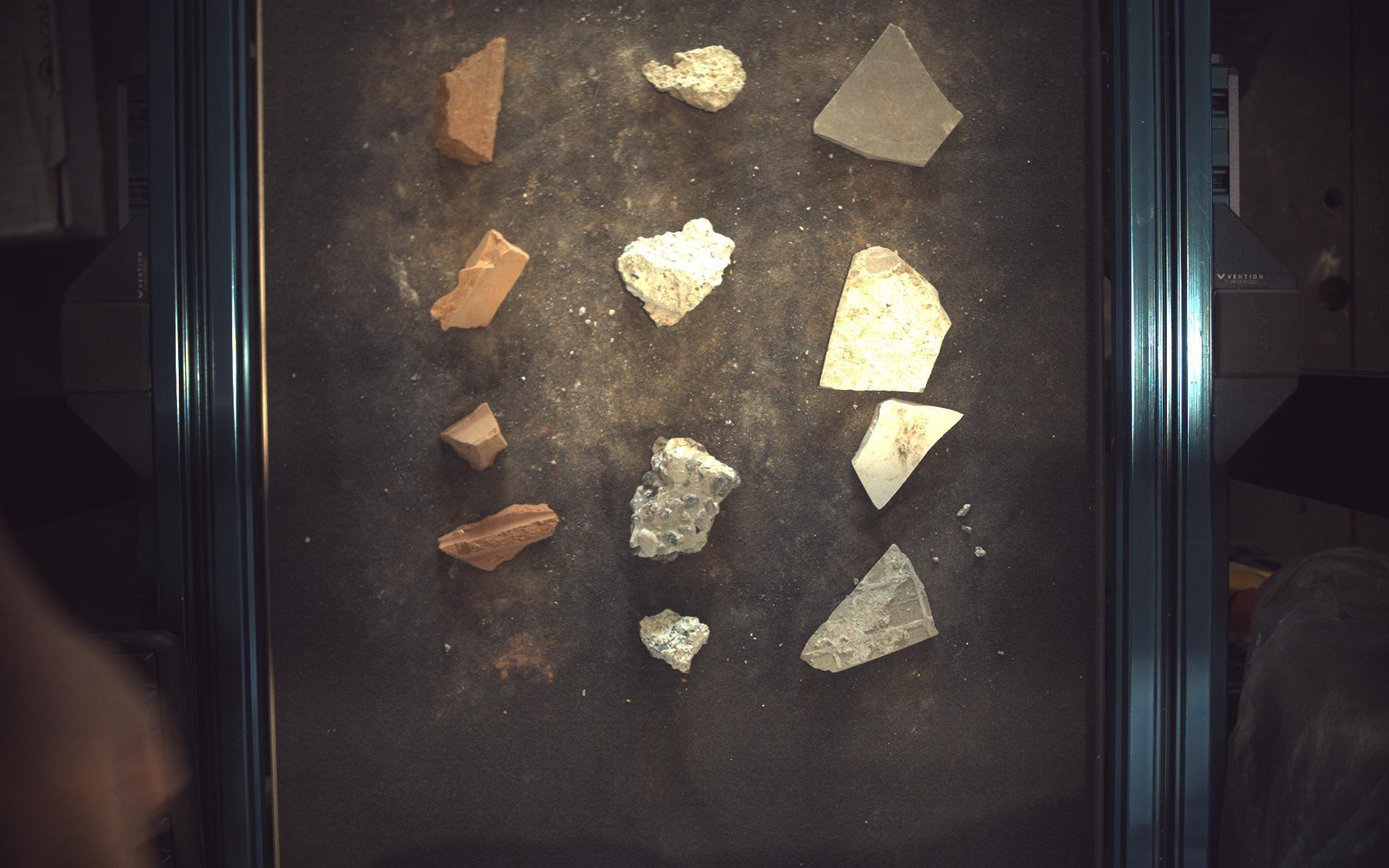brick: (431, 229, 530, 329), (433, 35, 506, 164), (438, 505, 559, 571), (440, 402, 507, 471)
concrete: (630, 437, 742, 561), (619, 217, 736, 326), (644, 44, 747, 111), (641, 610, 710, 674)
tile: (815, 22, 964, 166), (821, 246, 953, 392), (802, 545, 940, 673), (854, 399, 965, 509)
